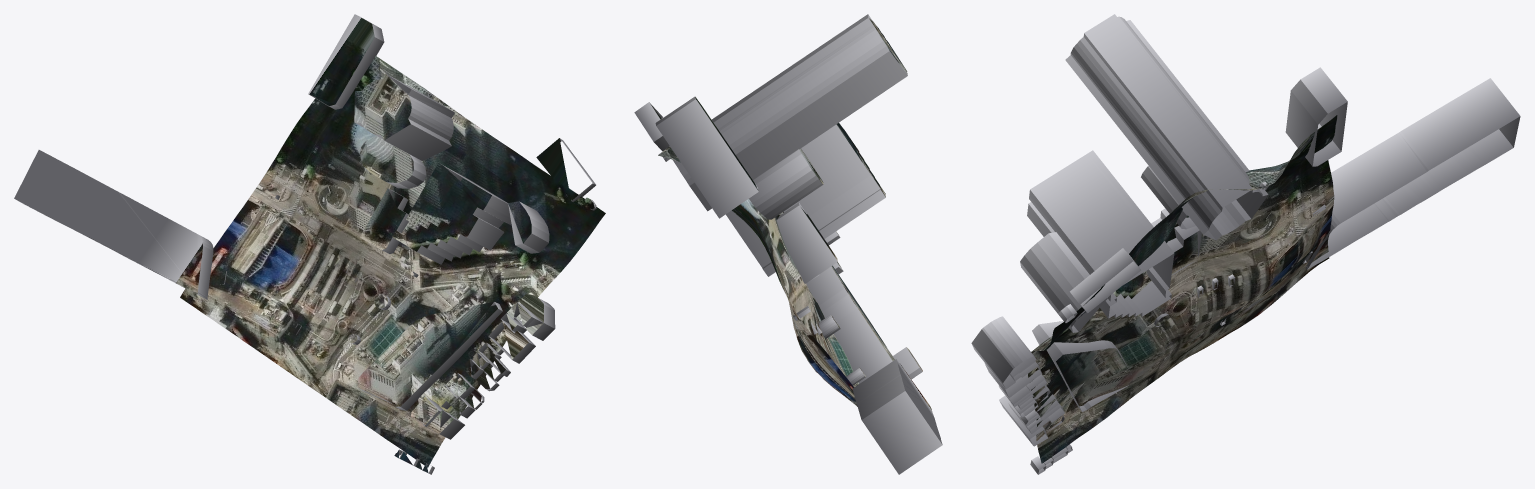
3 renders of one model, left to right at view 1: azimuth 30°, elevation 25°; view 2: azimuth 150°, elevation 25°; view 3: azimuth 270°, elevation 25°, orthographic. The views are drawn at different scales.
Bounding box in the file's own units: 382 × 337 × 370.
Materials: 1 (1 with a texture image).
